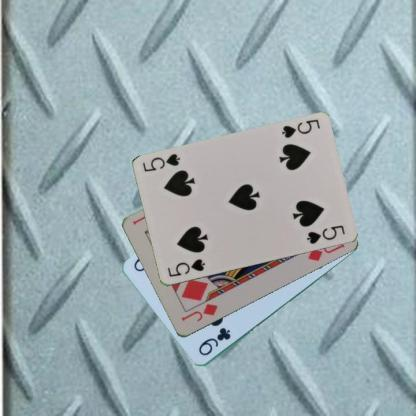5s: (278, 117, 322, 140), (165, 256, 206, 278)
9c: (195, 324, 232, 358)
Jd: (179, 301, 219, 323)
